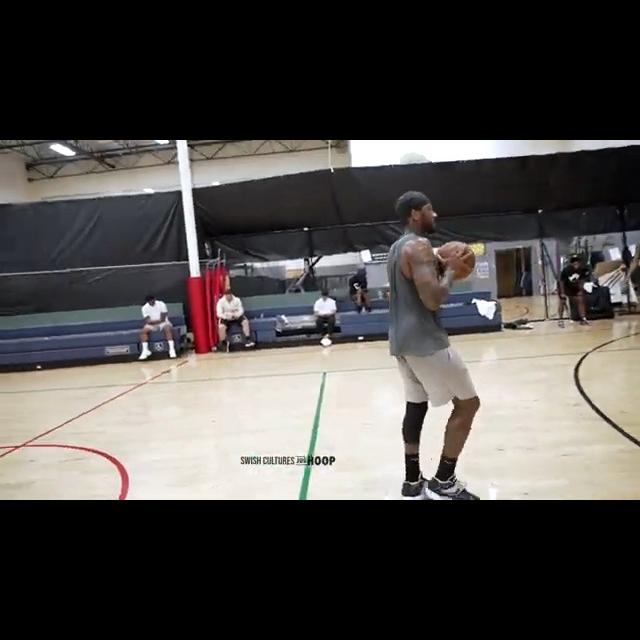basketball: (437, 240, 476, 281)
person: (384, 191, 483, 500), (555, 254, 592, 329), (215, 289, 257, 354), (138, 292, 177, 361), (314, 287, 339, 348), (347, 268, 375, 314)
